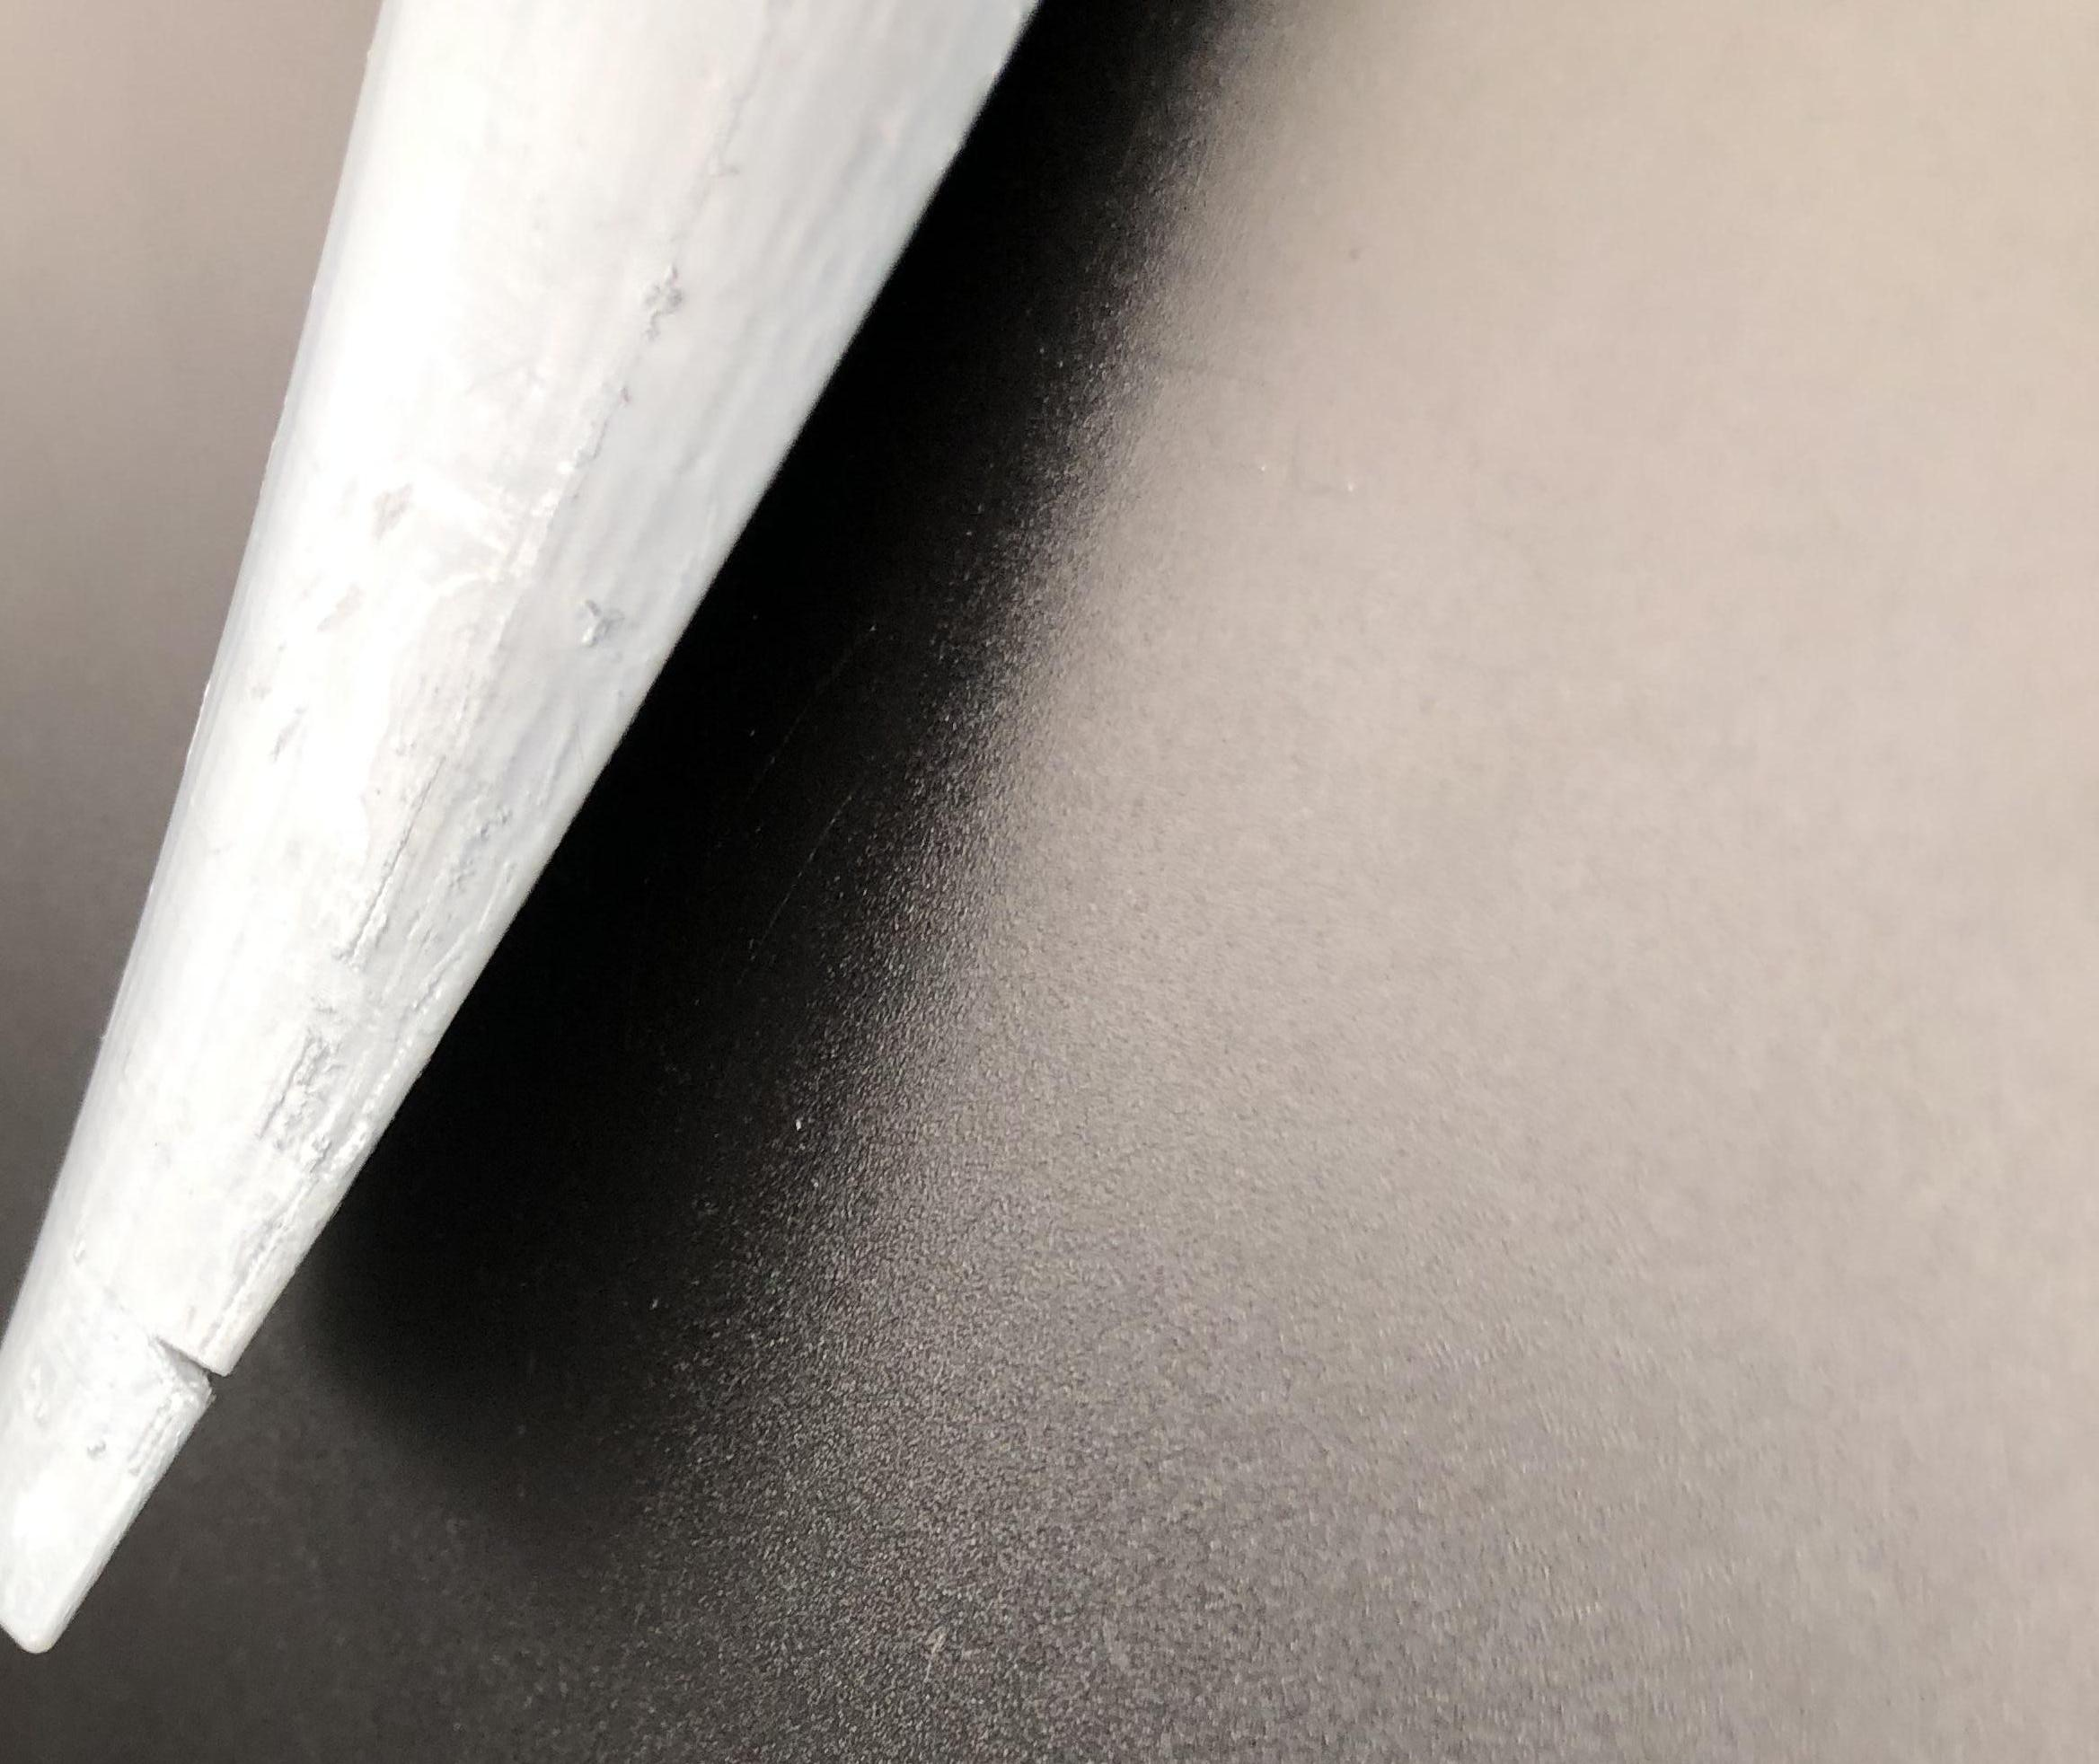groove: (150, 1325, 229, 1414)
